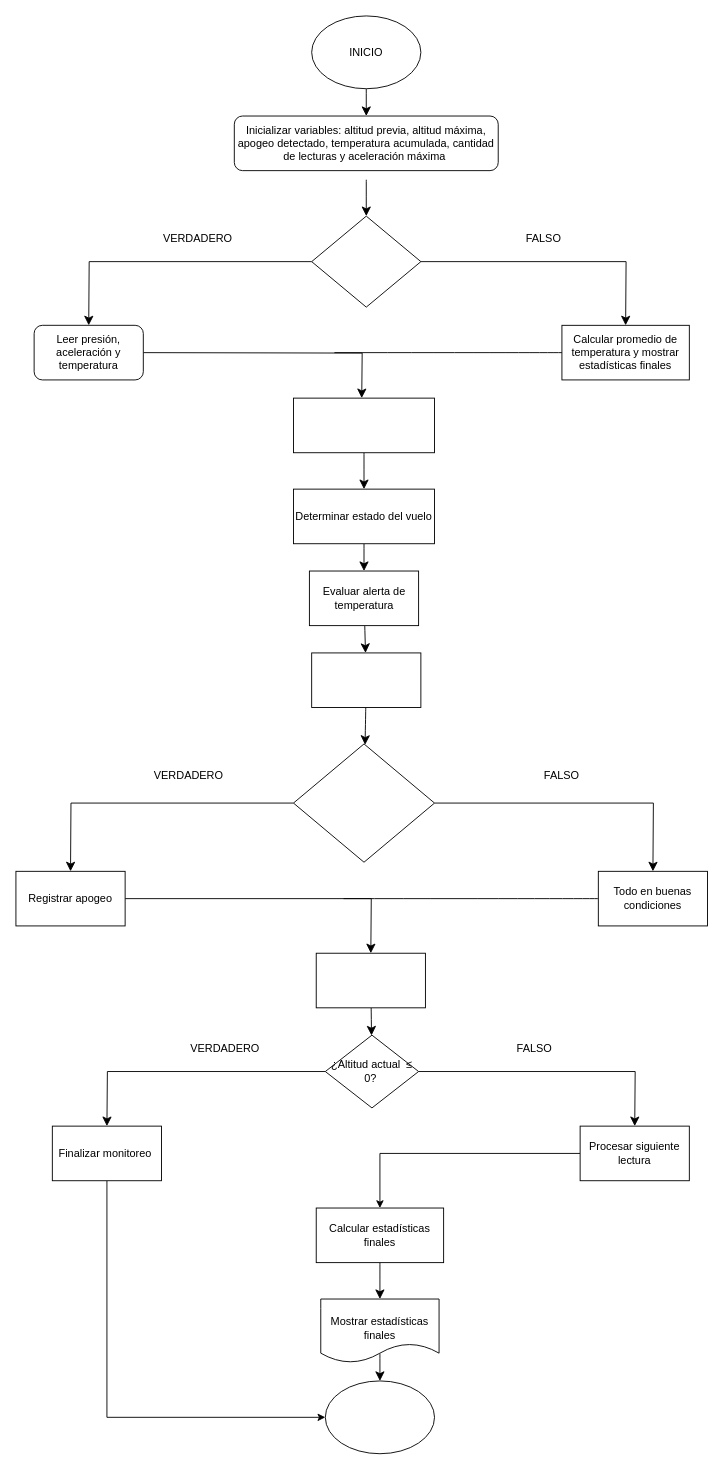
Image size: 723x1470. Some labels were removed from this diagram. The centre of each missing label's shape, as x and y in pixels:
"Actualizar altitud máxima y estadísticas" goes at [366,680].
"Actualizar altitud previa" goes at [370,980].
"Calcular altitud real" goes at [364,425].
"FIN" goes at [379,1417].
"¿Altitud actual < altitud previa y apogeo no detectado?" goes at [364,802].
"¿La simulación está activa?" goes at [366,261].
